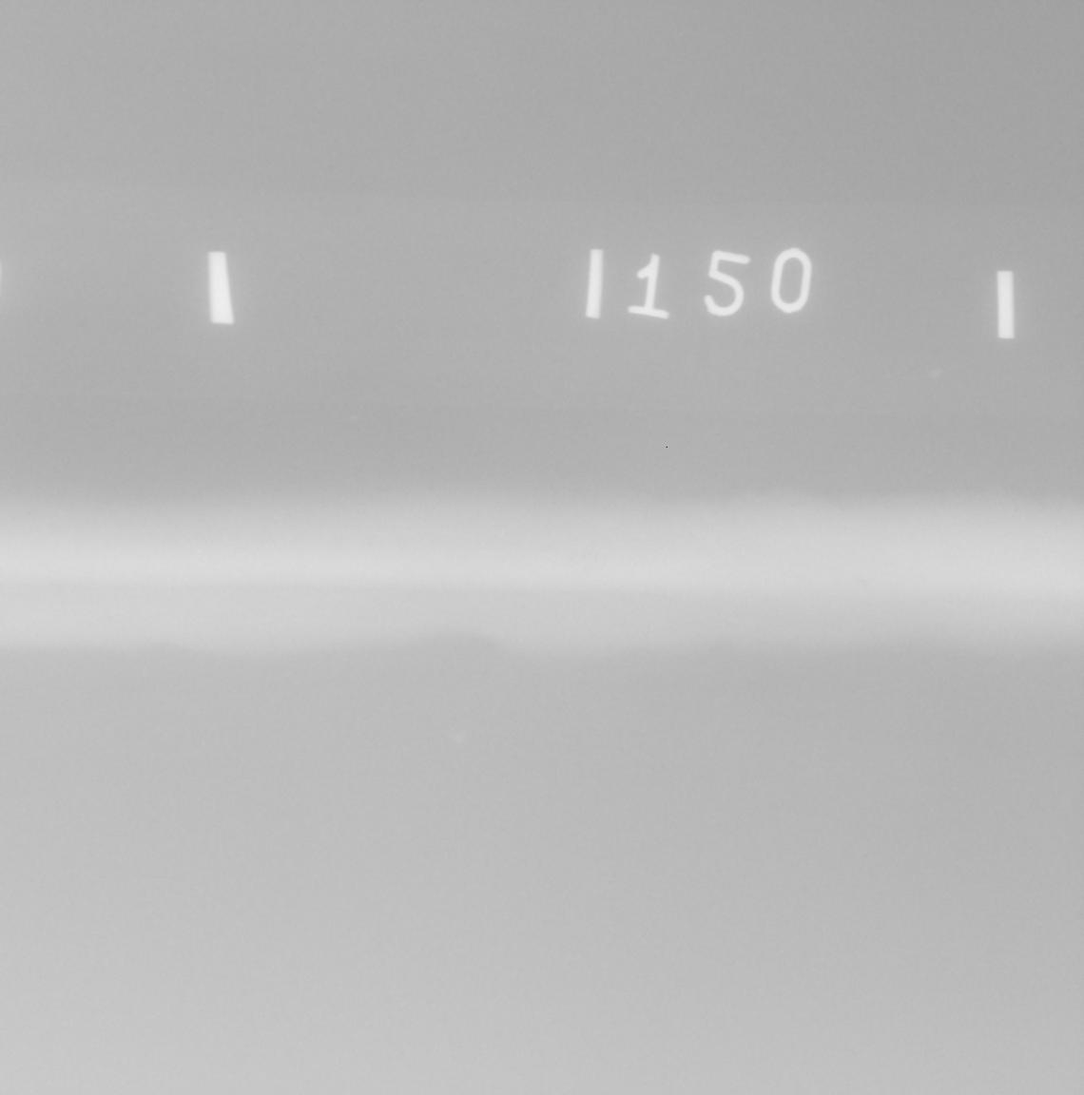Pore/Porosity: (859, 578, 869, 587)
